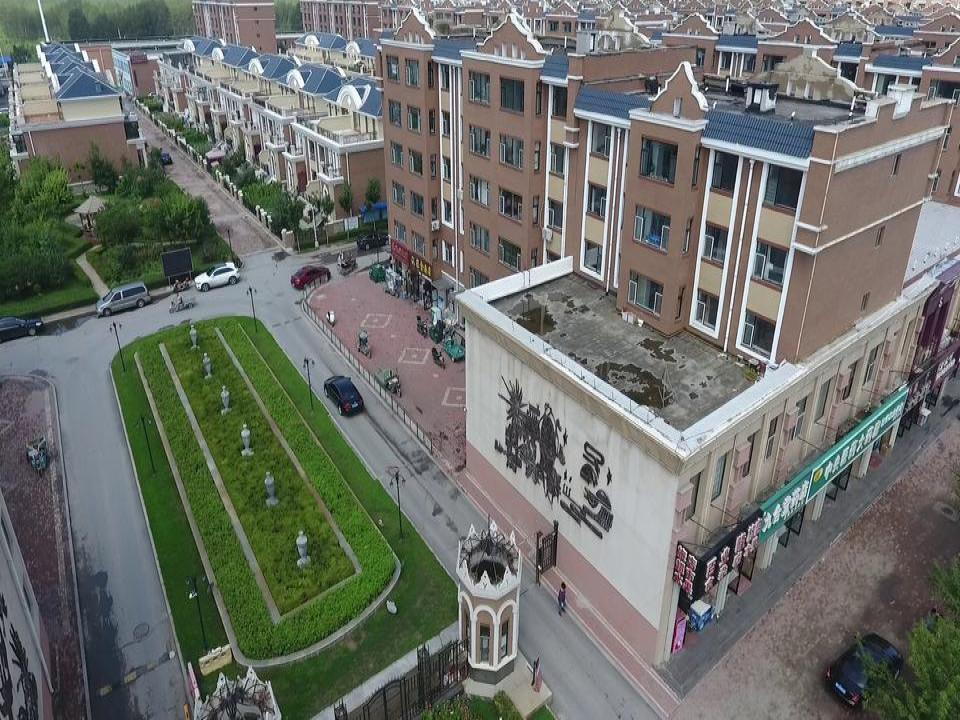car: (824, 630, 904, 710), (323, 374, 365, 418), (193, 260, 240, 292), (0, 314, 44, 342), (290, 264, 332, 291), (356, 228, 391, 251), (157, 151, 173, 165), (147, 91, 162, 100), (127, 111, 138, 121)
van: (94, 279, 152, 317)
